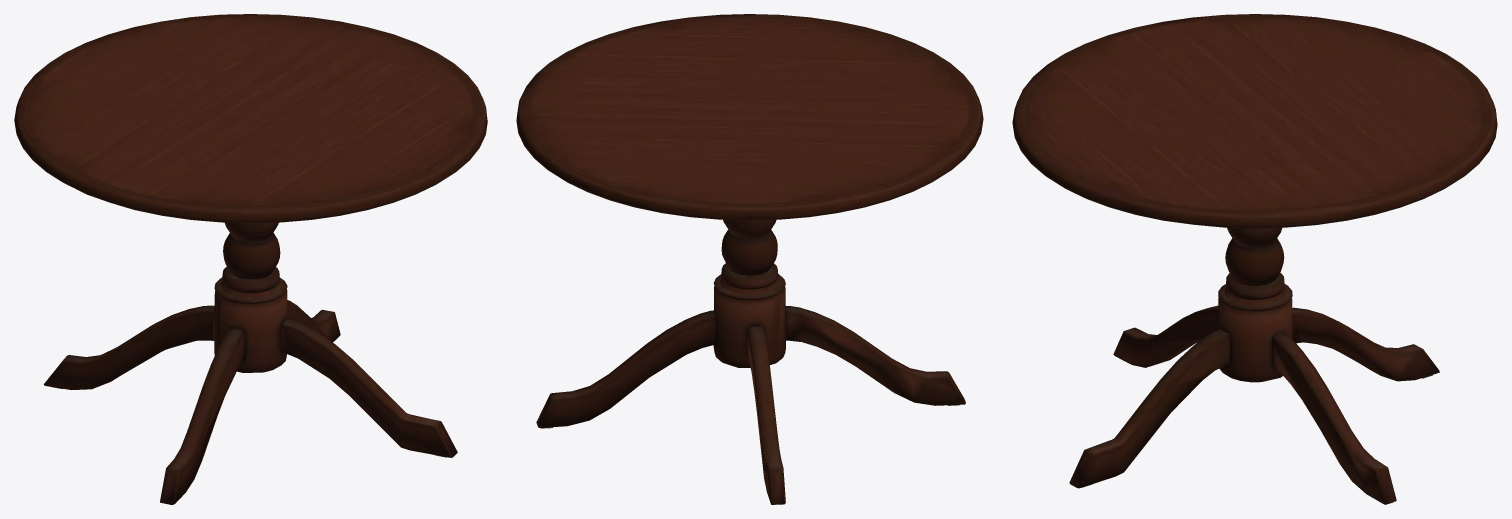
The model's file is round_wooden_table_01.glb.
3 renders of one model, left to right at view 1: azimuth 30°, elevation 25°; view 2: azimuth 150°, elevation 25°; view 3: azimuth 270°, elevation 25°, orthographic. The views are drawn at different scales.
Visible parts, largest first — view 1: round_wooden_table_01; view 2: round_wooden_table_01; view 3: round_wooden_table_01.
Part boxes in pixels (<box>): round_wooden_table_01: <box>14,14,487,504</box>; round_wooden_table_01: <box>516,14,983,504</box>; round_wooden_table_01: <box>1012,14,1497,504</box>.
Size of the model in its own units: 1.4 by 1 by 1.4.
1 material, 1 textured.
